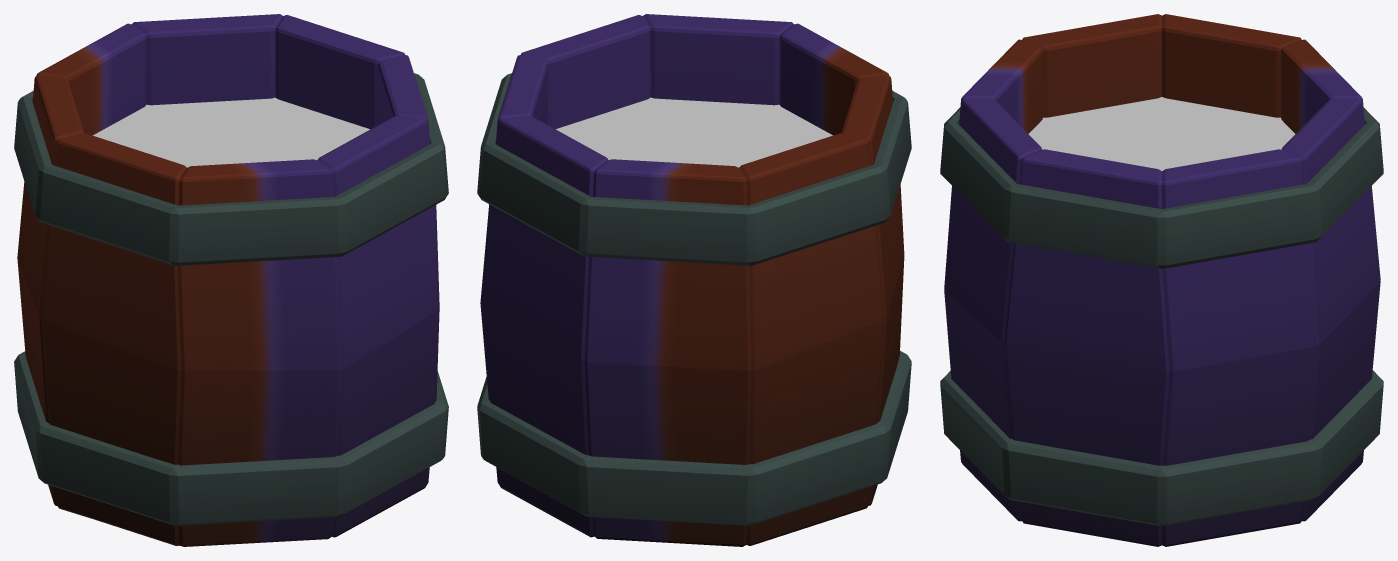
The model's file is FBX_BarrelOpenWine.fbx.
3 views of the same model, side by side, from view 1: azimuth 30°, elevation 25°; view 2: azimuth 150°, elevation 25°; view 3: azimuth 270°, elevation 25° (orthographic).
Visible parts, largest first — view 1: M_BarrelOpenWine; view 2: M_BarrelOpenWine; view 3: M_BarrelOpenWine.
Part boxes in pixels (box(x1,y1,x2,y2)): M_BarrelOpenWine: box(14, 14, 448, 546); M_BarrelOpenWine: box(477, 14, 911, 546); M_BarrelOpenWine: box(940, 14, 1383, 546).
Bounding box in the file's own units: 2.19 × 2 × 2.19.
